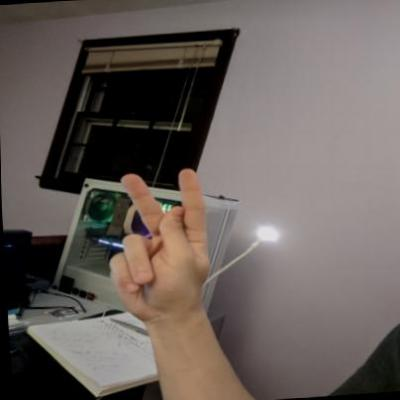hand: (96, 165, 220, 333)
